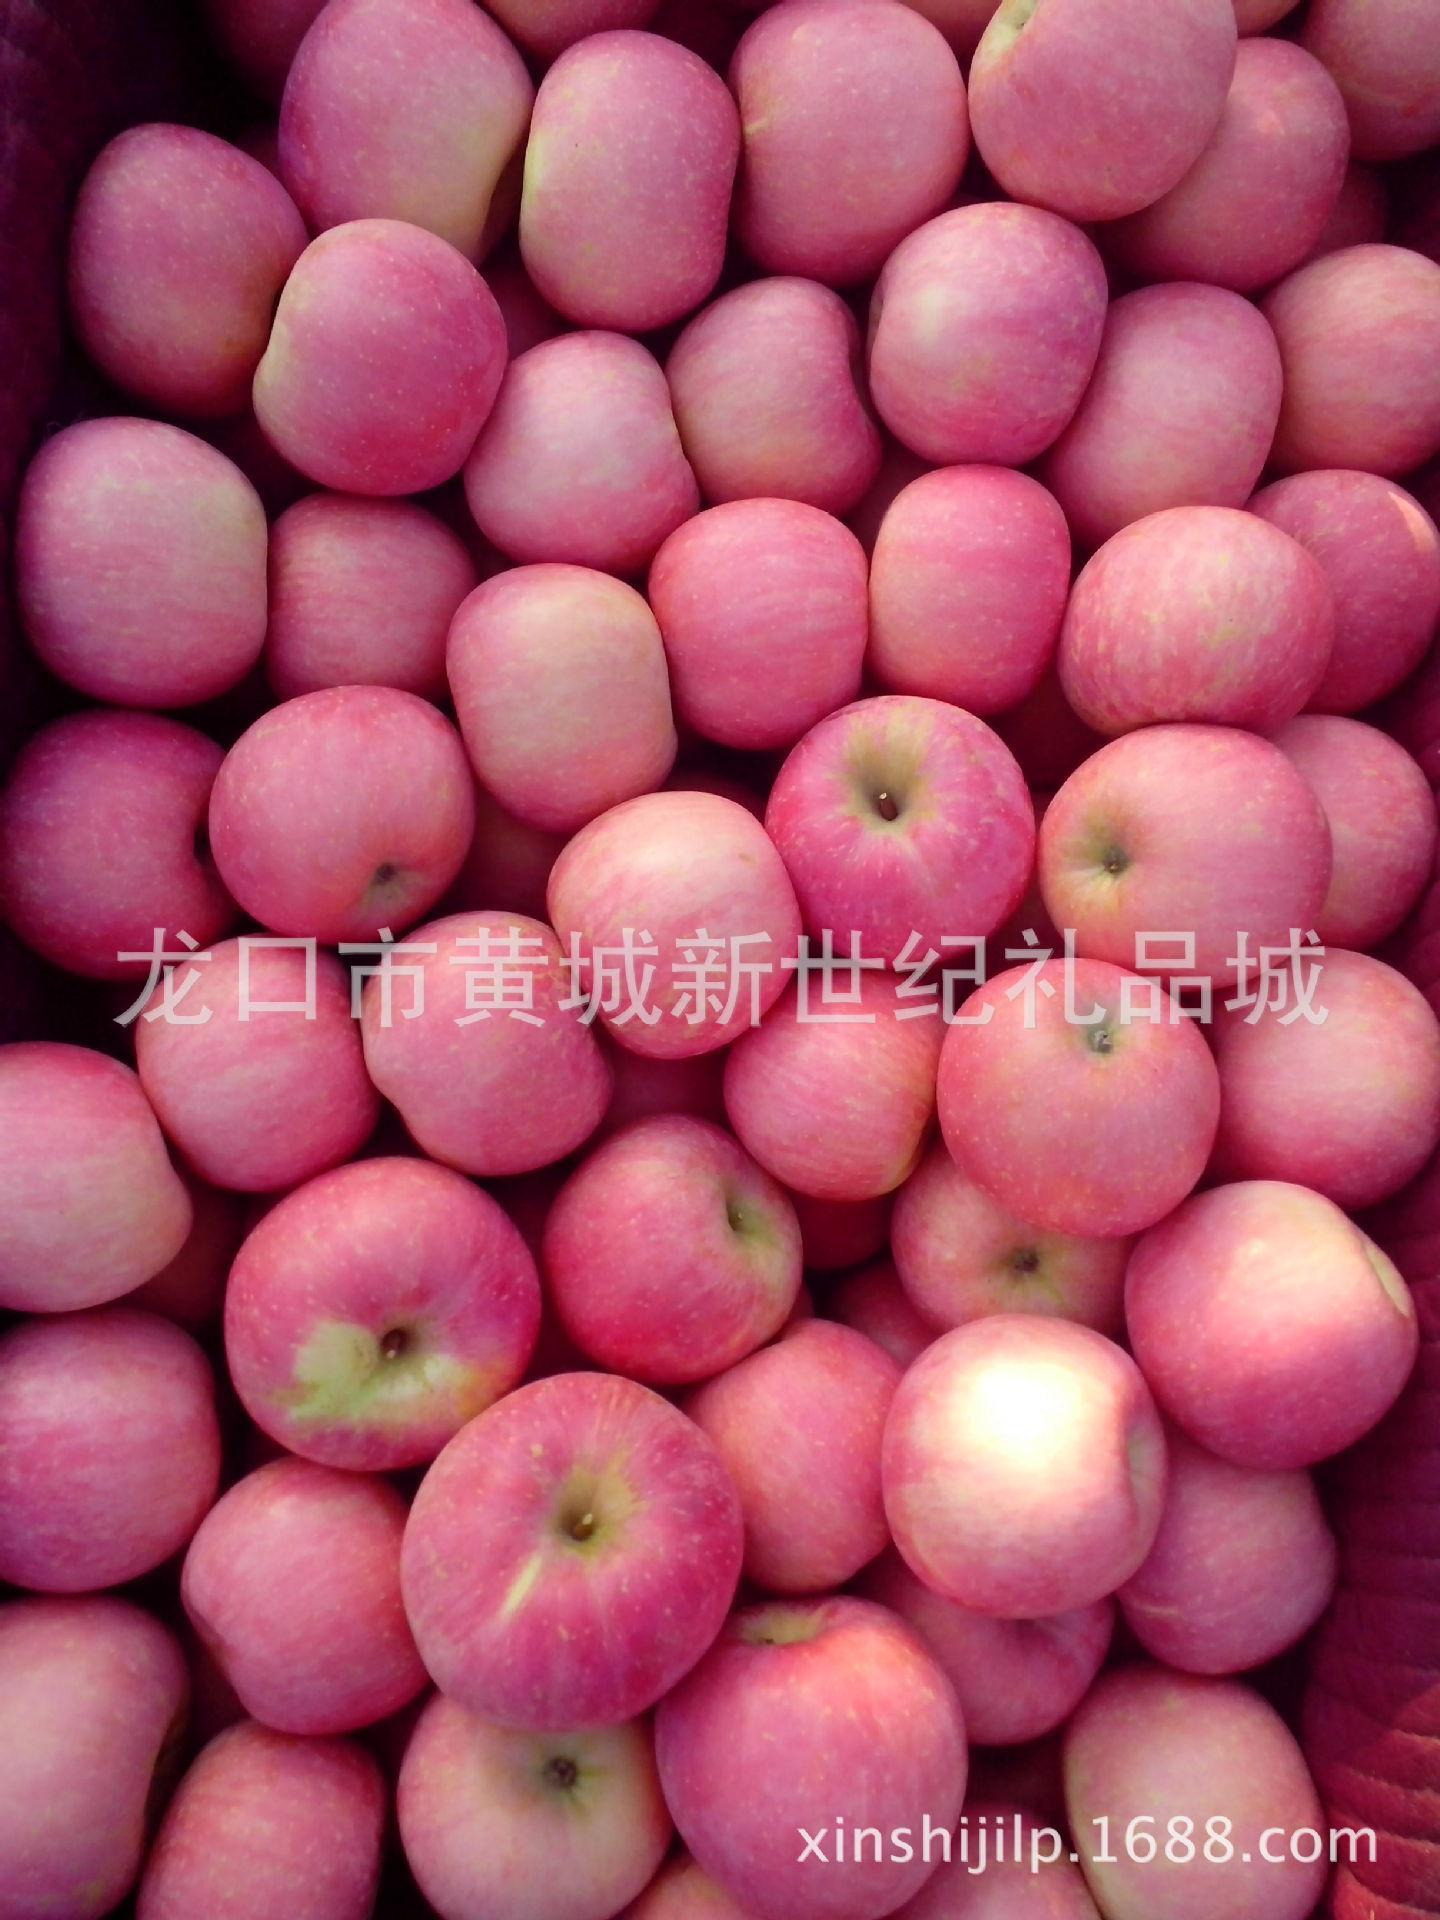apple: (396, 1365, 756, 1743), (647, 1593, 967, 1917), (218, 1158, 551, 1465), (880, 1315, 1171, 1618), (1036, 715, 1330, 1002), (1119, 1182, 1411, 1468), (933, 958, 1222, 1231), (768, 689, 1044, 968), (248, 221, 511, 500), (543, 1110, 808, 1385), (178, 1460, 442, 1736), (514, 24, 746, 333), (855, 190, 1101, 478), (27, 422, 272, 709), (64, 119, 293, 425), (355, 910, 616, 1166), (210, 689, 470, 943), (354, 909, 614, 1163), (1065, 497, 1345, 733), (392, 1686, 672, 1920), (8, 712, 248, 974), (726, 8, 968, 265), (640, 488, 876, 748), (861, 446, 1097, 706), (448, 559, 684, 819), (280, 3, 519, 249), (968, 3, 1236, 222), (5, 1315, 219, 1587), (2, 1598, 185, 1911), (1066, 272, 1281, 525), (2, 1042, 198, 1312), (470, 330, 699, 561), (136, 1717, 393, 1918), (723, 974, 938, 1194), (675, 277, 879, 506), (1266, 233, 1440, 476), (272, 491, 461, 701)
